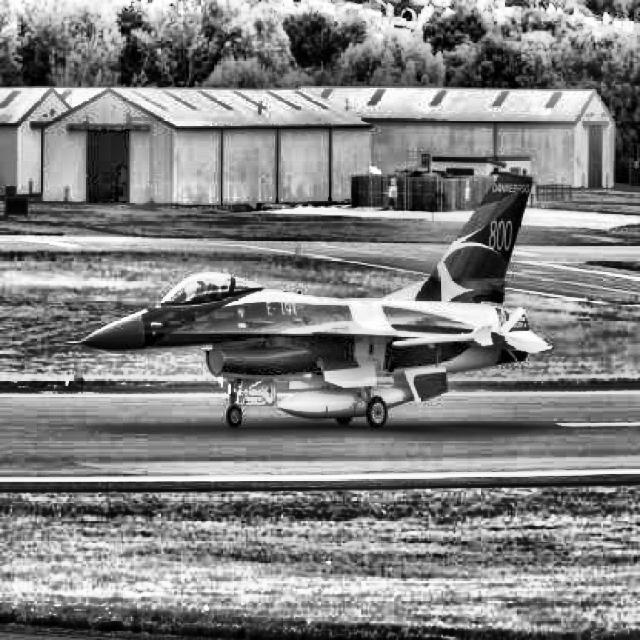F16: (65, 170, 560, 428)
